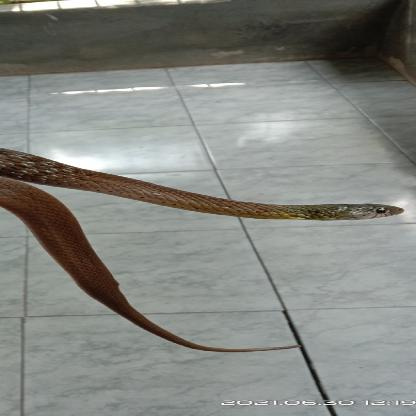Snake: (0, 146, 405, 353)
